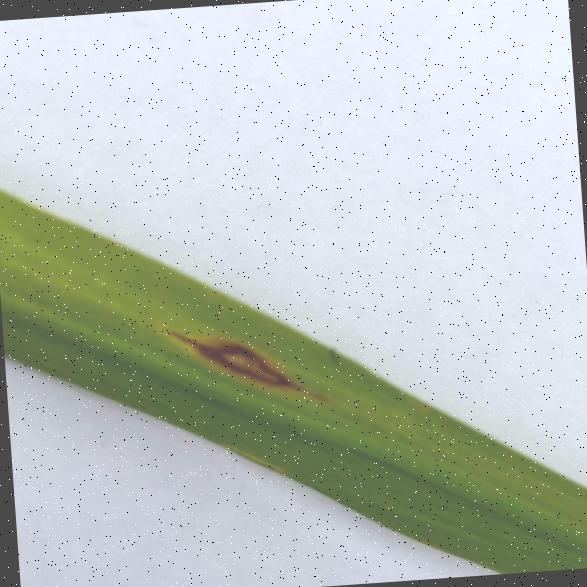Leaf_smut: (150, 260, 342, 432)
